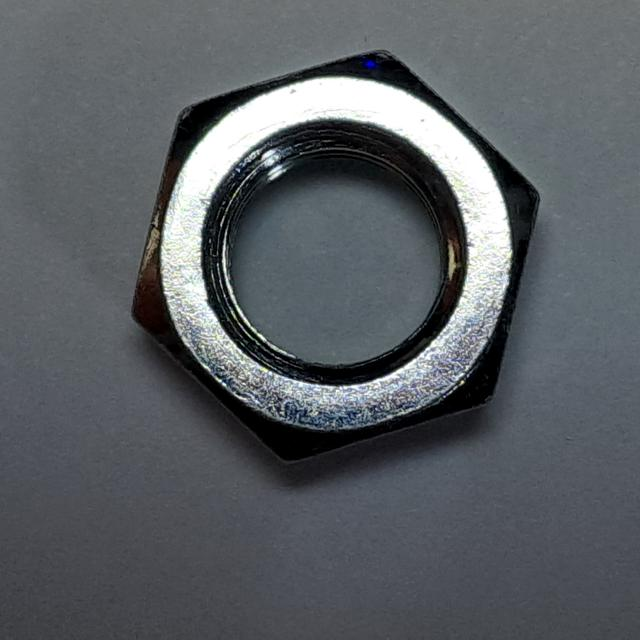Excellent: (115, 34, 559, 477)
